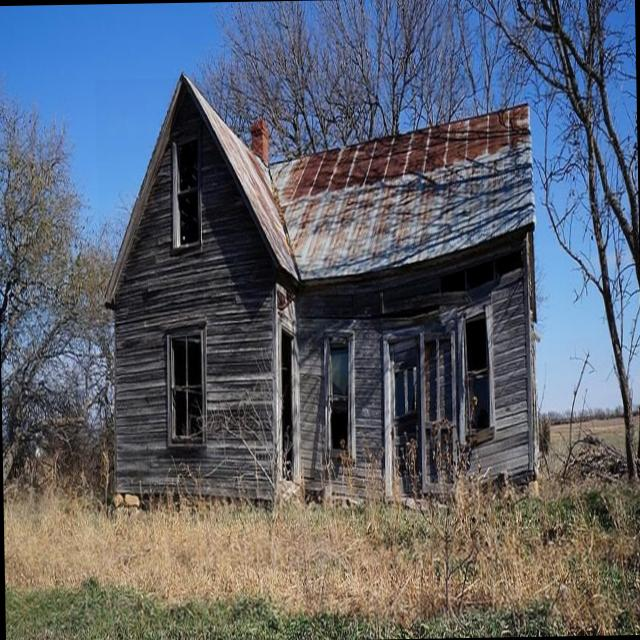House: (95, 71, 538, 518)
